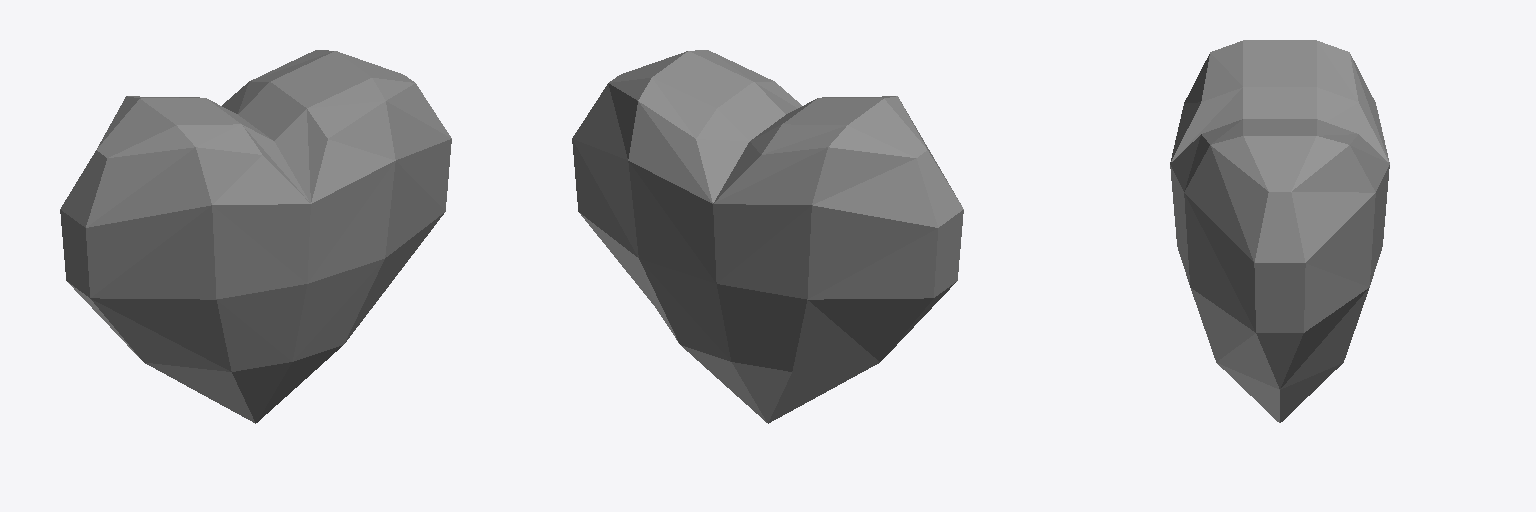
Rendered from heart.obj.
3 renders of one model, left to right at view 1: azimuth 30°, elevation 25°; view 2: azimuth 150°, elevation 25°; view 3: azimuth 270°, elevation 25°, orthographic.
Parts seen in each view (by area): view 1: Heart; view 2: Heart; view 3: Heart.
Part boxes in pixels (bbox=[...]): Heart: bbox=[60, 50, 451, 423]; Heart: bbox=[572, 50, 963, 423]; Heart: bbox=[1170, 40, 1389, 422].
Size of the model in its own units: 39.45 by 34.57 by 20.51.